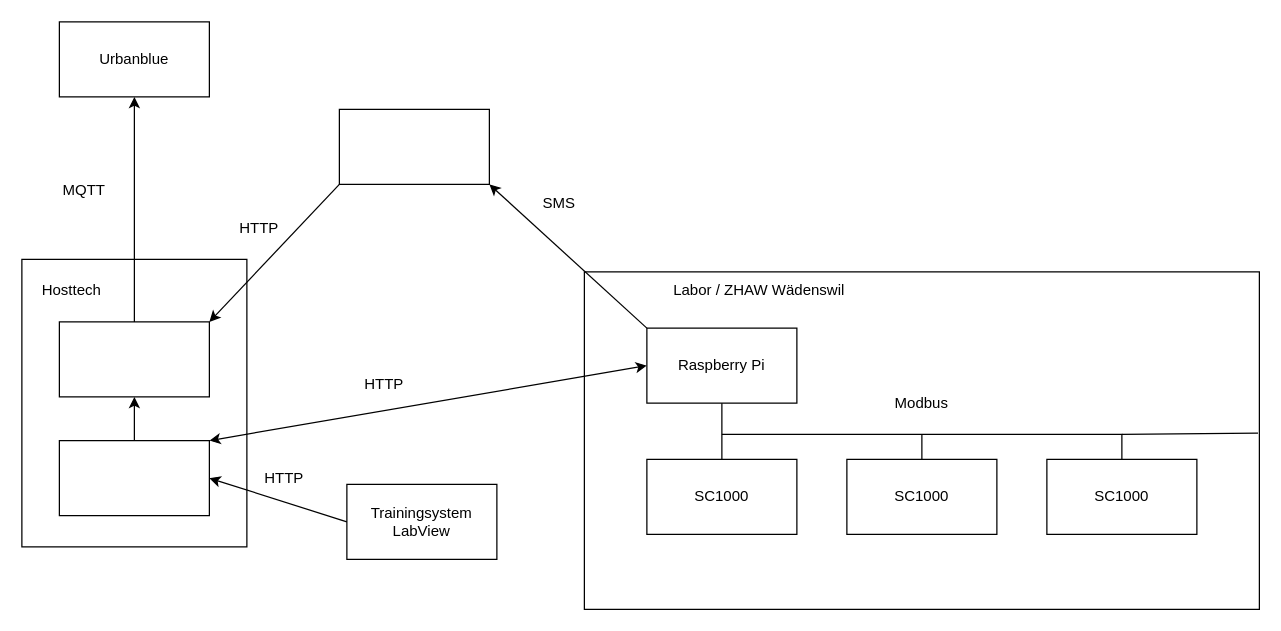
Image size: 1281x631. Some labels were removed from this diagram. Each missing label, with the centre of its shape:
"Datenbank" goes at point 133,477.
"User" goes at point 413,146.
"Webseite" goes at point 133,359.
